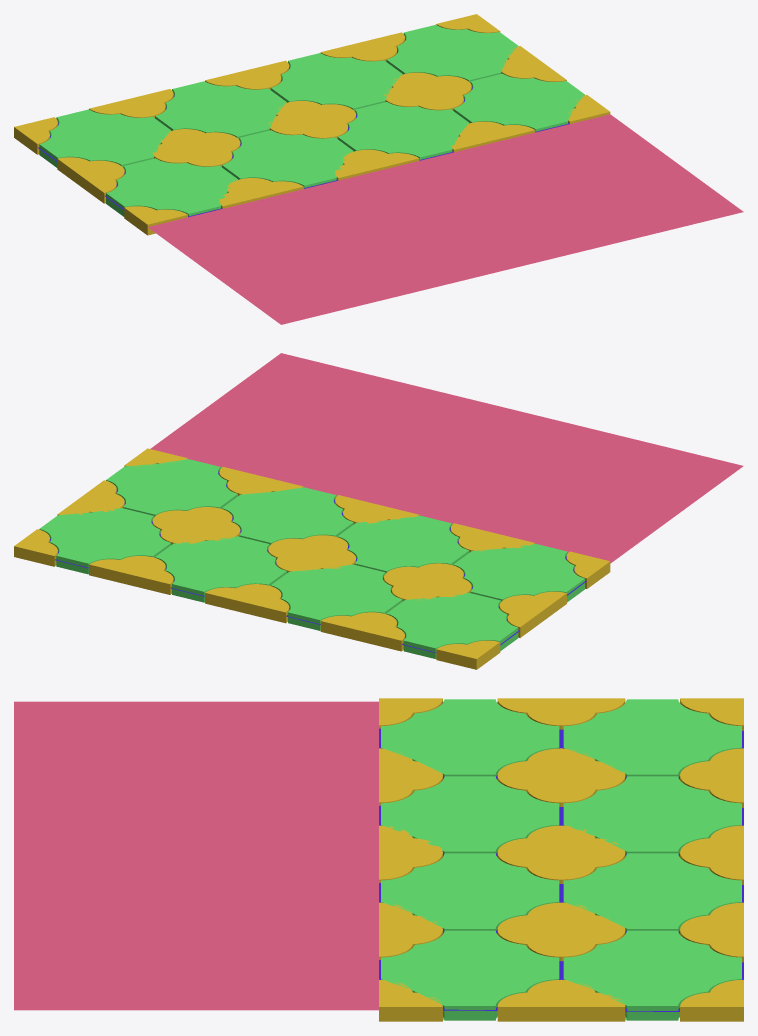
File: TrimSheets.fbx
The picture shows the model from 3 angles, top to bottom: view 1: azimuth 30°, elevation 25°; view 2: azimuth 150°, elevation 25°; view 3: azimuth 270°, elevation 25°; orthographic projection. The views are drawn at different scales.
Parts seen in each view (by area): view 1: Plane.028; view 2: Plane.028; view 3: Plane.028.
Part boxes in pixels (x1,y1,x2,y2): Plane.028: [14, 14, 743, 324]; Plane.028: [14, 353, 743, 669]; Plane.028: [14, 698, 743, 1021].
Bounding box in the file's own units: 200 × 4.47 × 200.
